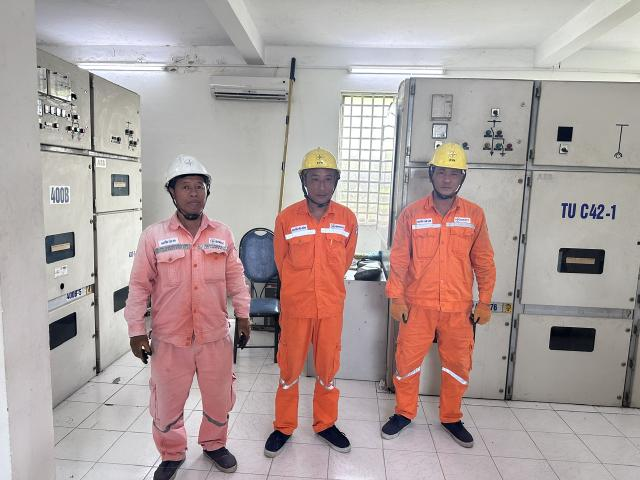gloves: (121, 331, 166, 364), (231, 312, 260, 350), (389, 293, 413, 322), (470, 298, 494, 327)
helmet: (157, 150, 223, 191), (424, 137, 479, 174), (293, 144, 357, 175)
shoes: (431, 414, 484, 453), (200, 437, 243, 479), (312, 416, 354, 457), (143, 451, 198, 480), (259, 420, 291, 461), (377, 407, 412, 444)
